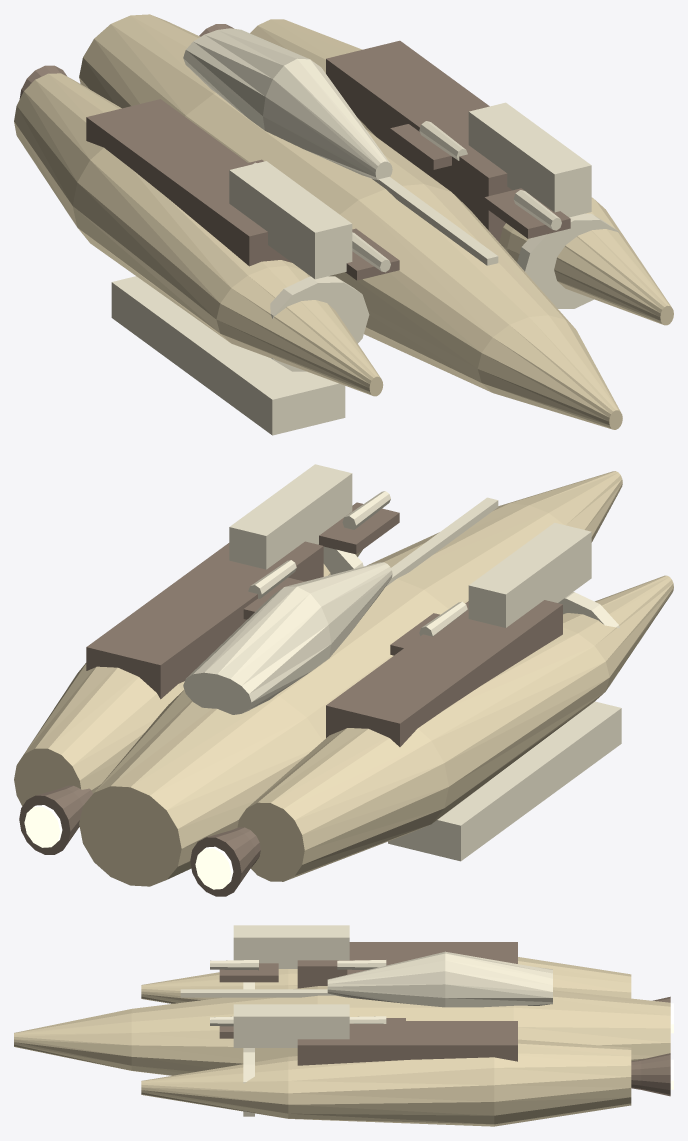
The picture shows the model from 3 angles, top to bottom: view 1: azimuth 30°, elevation 25°; view 2: azimuth 150°, elevation 25°; view 3: azimuth 270°, elevation 25°; orthographic projection. The views are drawn at different scales.
Bounding box in the file's own units: 10.59 × 5.77 × 22.76.
